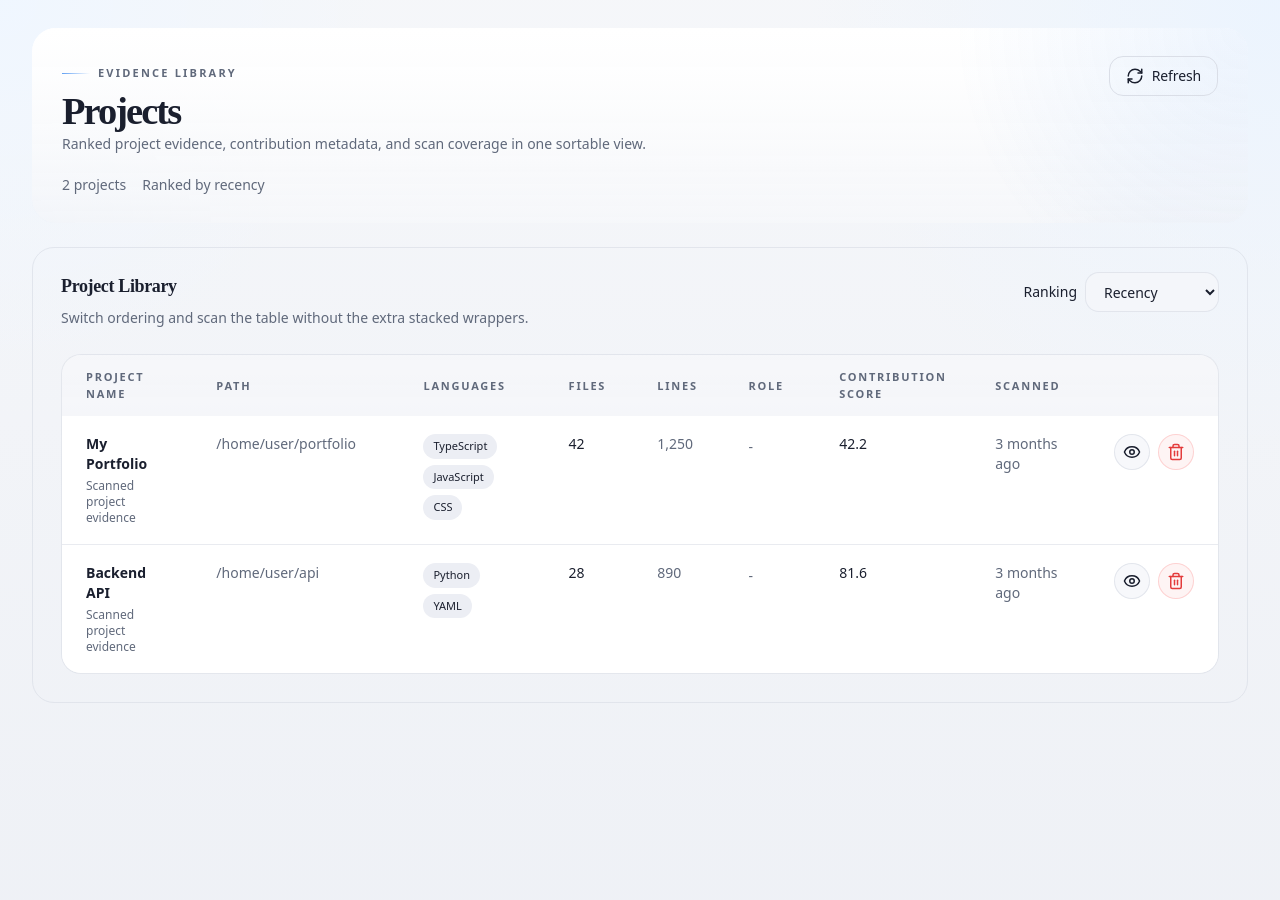
ProjectsPage › opens modal when eye icon clicked
Step 1. Click the button titled "View details" in the row of "My Portfolio" → click(1132, 452), box [1114, 434, 1150, 470]
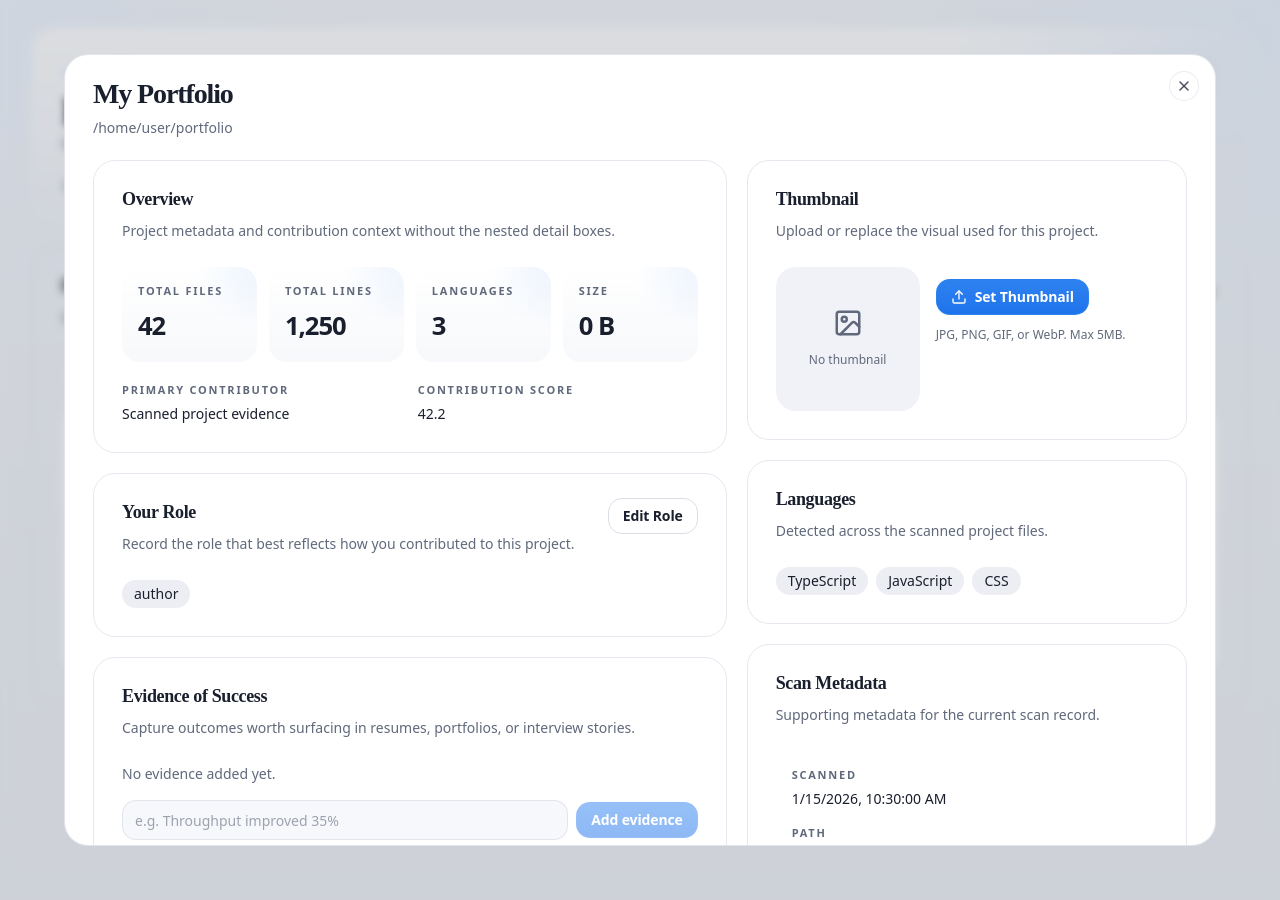
Result: the heading "My Portfolio" is shown at [93, 78, 233, 109]
